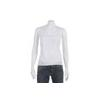canottiera: (39, 26, 62, 66)
